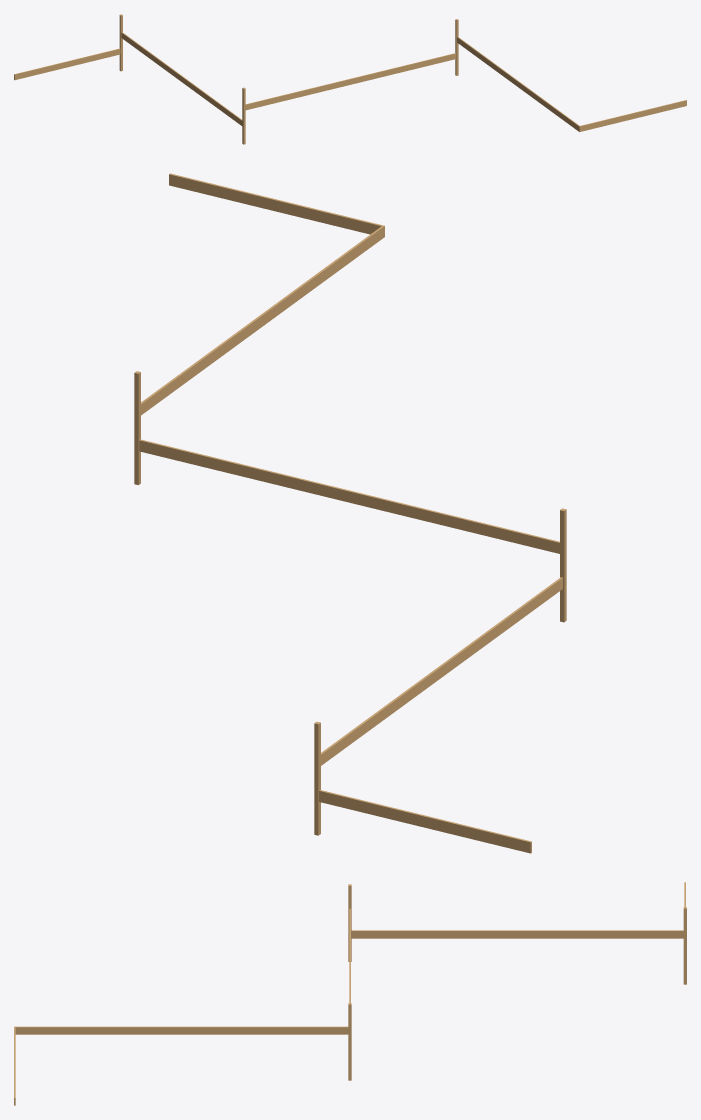
Rendered from board.glb.
The picture shows the model from 3 angles, top to bottom: view 1: azimuth 30°, elevation 25°; view 2: azimuth 150°, elevation 25°; view 3: azimuth 270°, elevation 25°; orthographic projection. The views are drawn at different scales.
Visible parts, largest first — view 1: Unified_Net_1_Island_9, Unified_Net_1_Island_3, Unified_Net_1_Island_8, Unified_Net_1_Island_15; view 2: Unified_Net_1_Island_9, Unified_Net_1_Island_3, Unified_Net_1_Island_8, Unified_Net_1_Island_15; view 3: Unified_Net_1_Island_9, Unified_Net_1_Island_8.
Part boxes in pixels (x1=…): Unified_Net_1_Island_9: x1=457, y1=36, x2=686, y2=131; Unified_Net_1_Island_3: x1=245, y1=53, x2=455, y2=110; Unified_Net_1_Island_8: x1=121, y1=32, x2=242, y2=125; Unified_Net_1_Island_15: x1=14, y1=48, x2=120, y2=80; Unified_Net_1_Island_9: x1=141, y1=173, x2=384, y2=415; Unified_Net_1_Island_3: x1=139, y1=439, x2=559, y2=553; Unified_Net_1_Island_8: x1=321, y1=577, x2=562, y2=765; Unified_Net_1_Island_15: x1=319, y1=790, x2=531, y2=853; Unified_Net_1_Island_9: x1=14, y1=1026, x2=348, y2=1105; Unified_Net_1_Island_8: x1=351, y1=930, x2=683, y2=938.
Bounding box in the file's own units: 0.000401 × 8e-05 × 0.000402.
